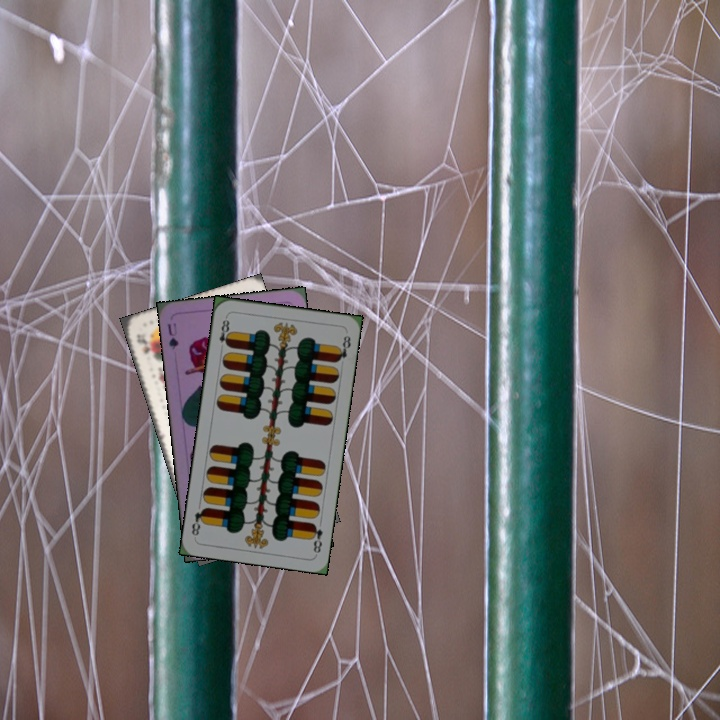E8: (215, 313, 233, 349), (307, 520, 325, 556)
GU: (163, 319, 181, 352)
SK: (132, 330, 155, 356)
